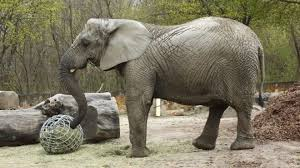Elephant: (56, 9, 268, 160)
